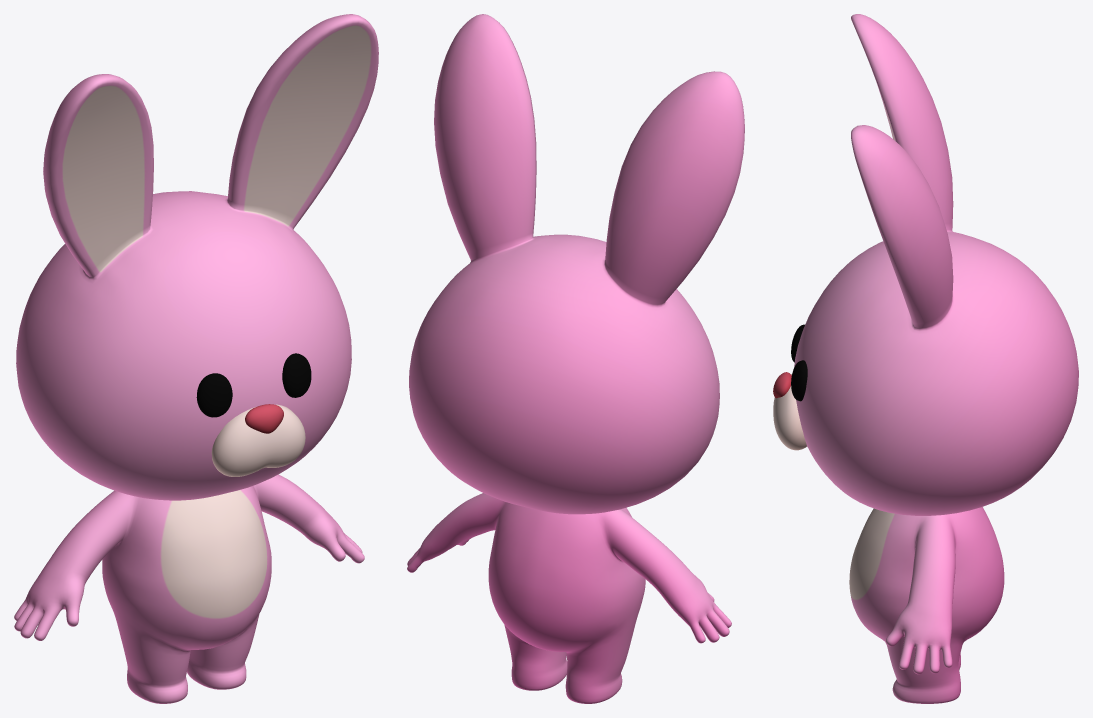
File: character201_bunny.glb
3 views of the same model, side by side, from view 1: azimuth 30°, elevation 25°; view 2: azimuth 150°, elevation 25°; view 3: azimuth 270°, elevation 25° (orthographic). The views are drawn at different scales.
Visible parts, largest first — view 1: Bunny; view 2: Bunny; view 3: Bunny.
Part boxes in pixels (left/top/right/bottom): Bunny: left=14, top=14, right=378, bottom=703; Bunny: left=407, top=14, right=744, bottom=703; Bunny: left=773, top=14, right=1078, bottom=703.
Size of the model in its own units: 0.7904 by 1.47 by 0.6704.
Materials: 1 (1 with a texture image).
